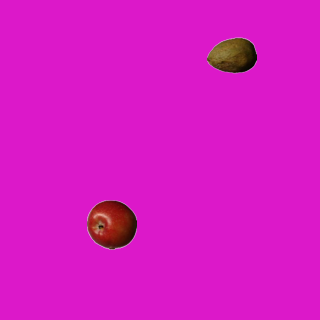Apple Braeburn: (86, 199, 136, 249)
Papaya: (206, 30, 256, 80)
